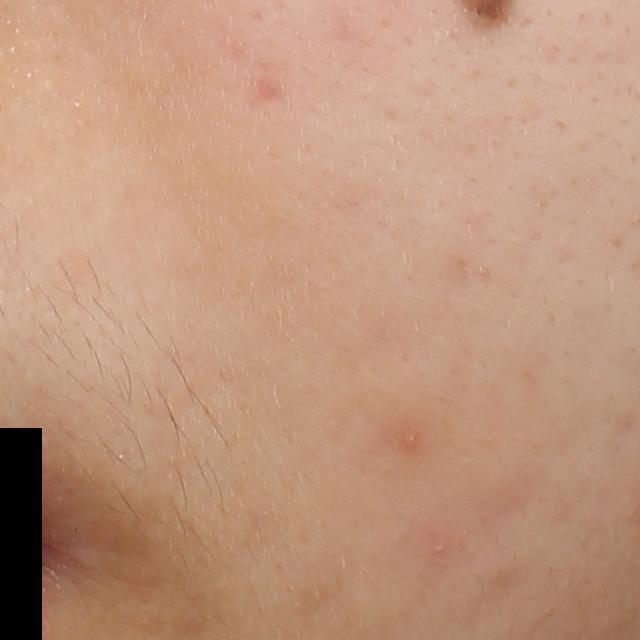atrophic_scar: (254, 72, 293, 109)
